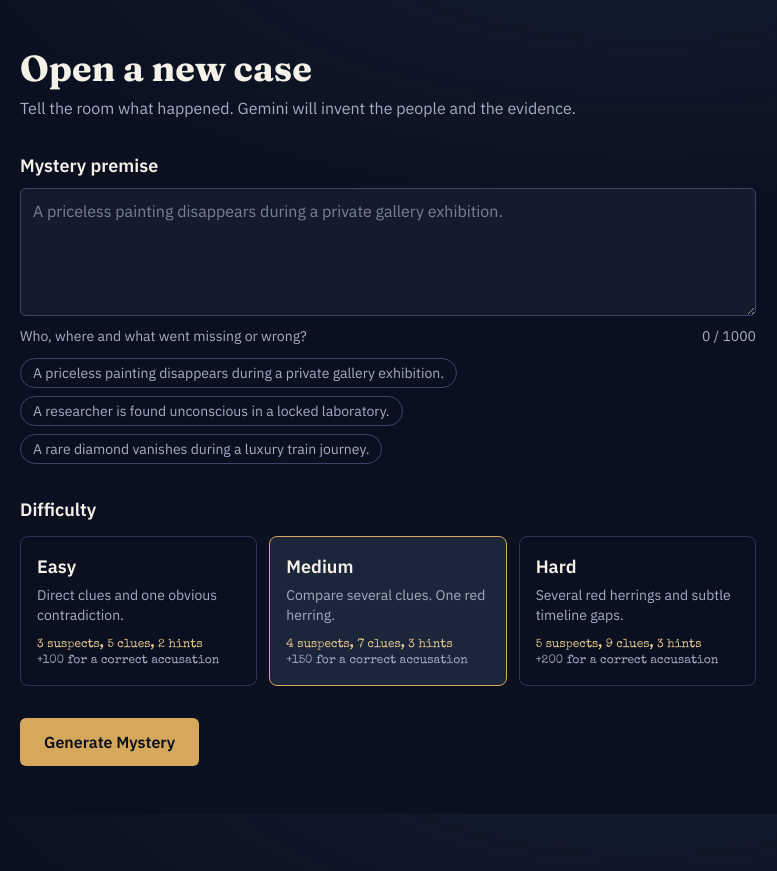
Scenario: Create page › shows a retry option when generation fails
The width and height of the screenshot is (777, 871).
Type "A long enough premise for testing." into the text box labelled "Mystery premise". click: (388, 252)
box: [20,188,756,316]
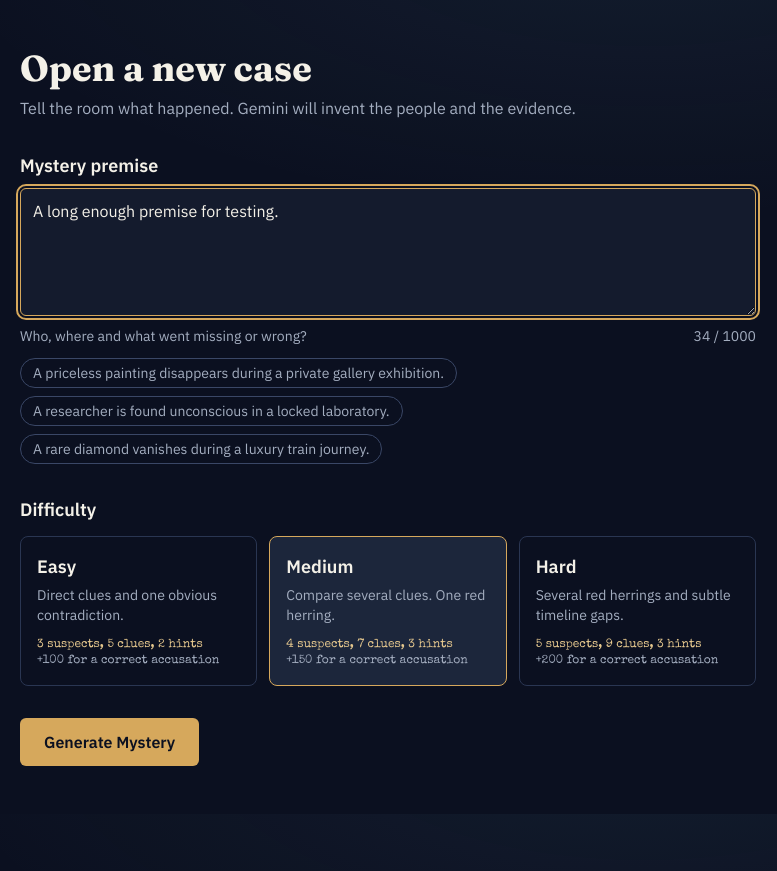
Click the button "Generate Mystery". click: click(110, 742)
box: [20,718,199,766]
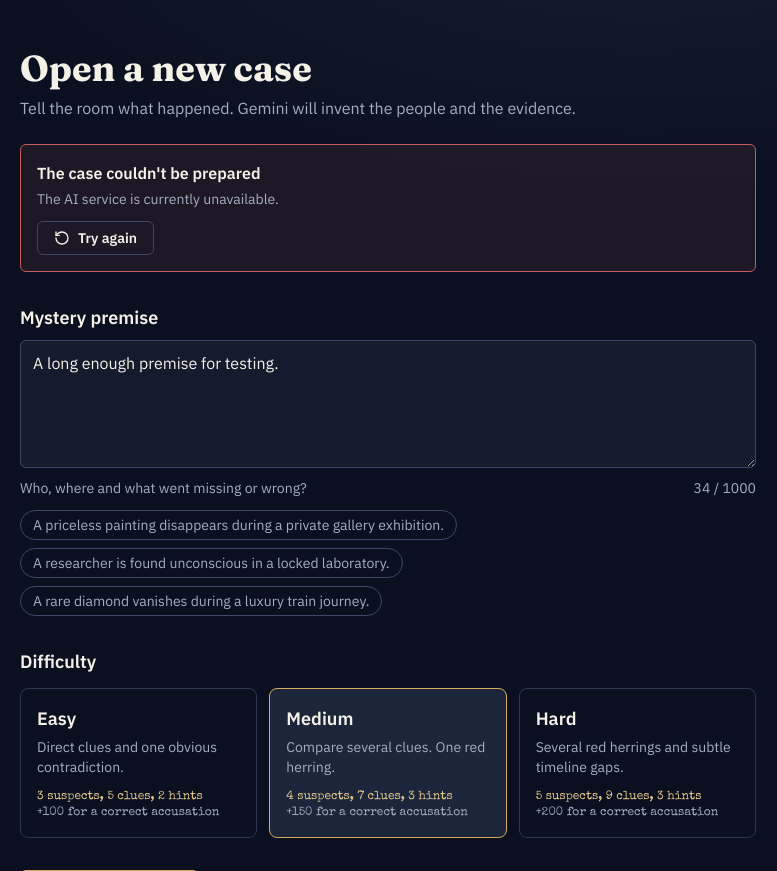
Check: the message shows "unavailable", box [37,190,279,208]
Check: the button "Try again" is shown, box [37,221,154,255]
